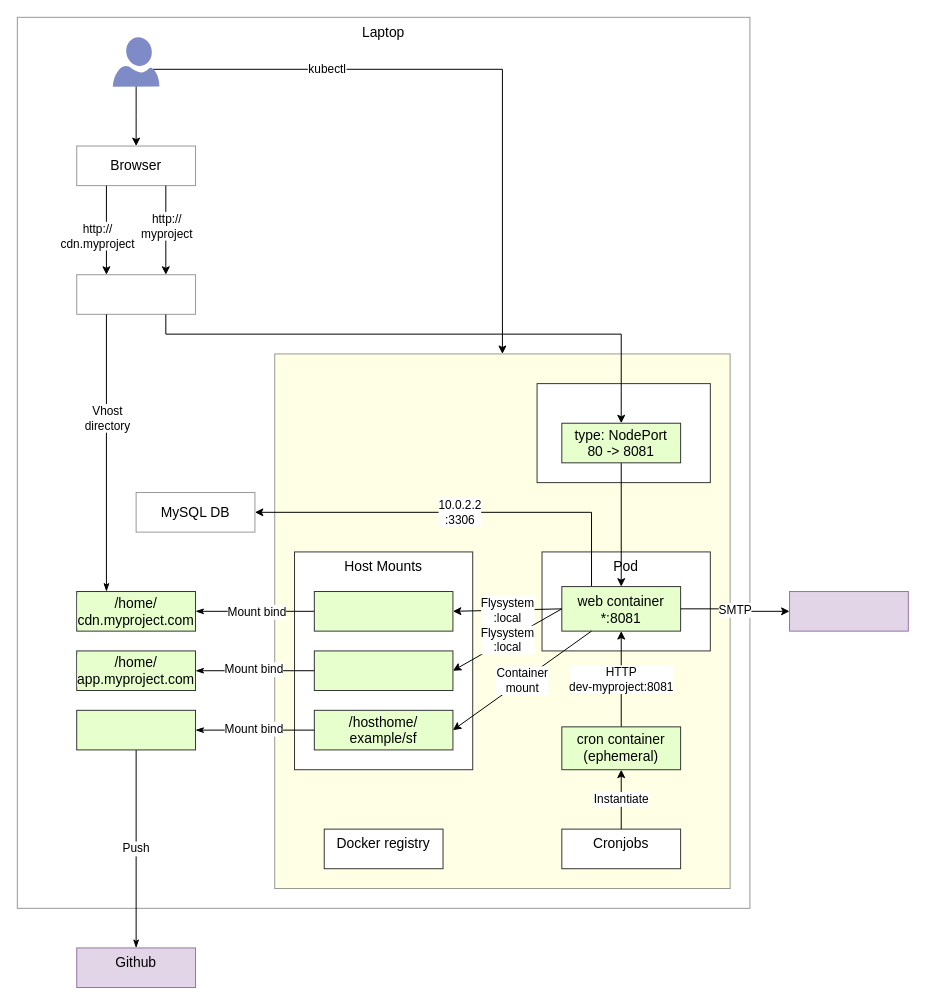
The diagram is 926 pixels wide and 1005 high, and some of its shapes have lost their labels. Here are the shapes that lost their labels. From the top down, the box of each, then its label:
(76, 274, 196, 314): Web server
(536, 383, 710, 483): Service
(313, 591, 453, 631): /hosthome/ cdn.myproject.com
(274, 353, 730, 889): Minikube with Virtualbox driver
(789, 591, 908, 631): SMTP server
(313, 650, 453, 691): /hosthome/ app.myproject.com
(76, 709, 196, 750): Symfony working directory
